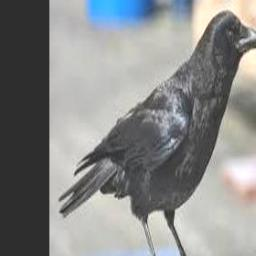Crow: (59, 8, 256, 256)
